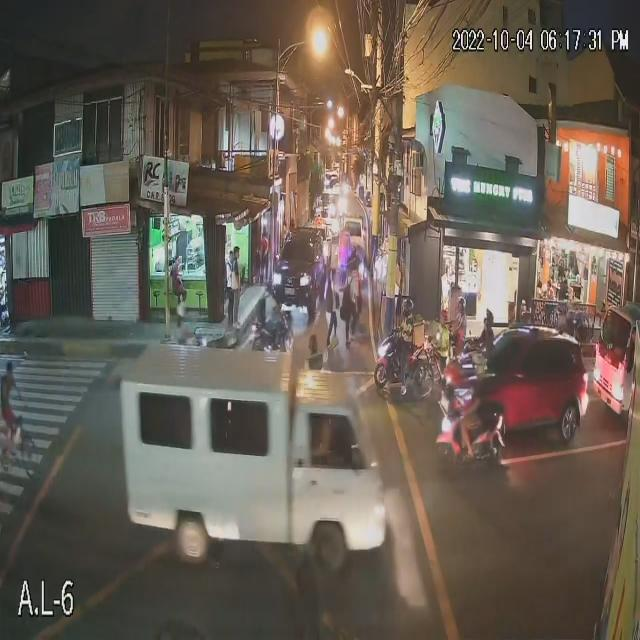helmet: (454, 297, 471, 312), (400, 298, 414, 310), (485, 311, 494, 329)
motorcycle: (435, 427, 509, 465), (373, 343, 418, 400), (244, 307, 290, 352), (404, 362, 445, 402)
rider: (465, 401, 480, 457), (481, 329, 496, 357), (455, 314, 464, 352), (405, 315, 414, 341)
